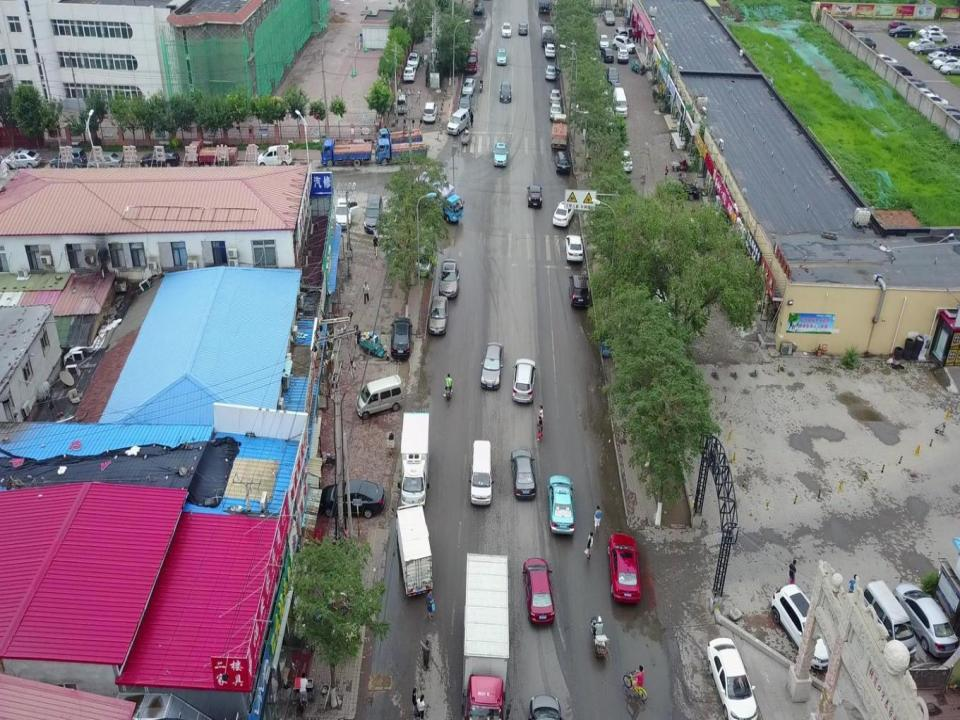car: (769, 583, 841, 672), (892, 582, 960, 660), (706, 637, 760, 720), (317, 478, 386, 519), (607, 533, 642, 605), (522, 557, 554, 624), (546, 474, 576, 536), (509, 448, 537, 502), (479, 340, 504, 390), (511, 358, 537, 404), (390, 316, 414, 360), (527, 693, 563, 720), (437, 258, 460, 299), (256, 144, 292, 168), (428, 295, 449, 336), (364, 193, 384, 235), (0, 149, 42, 169), (334, 197, 359, 230), (568, 273, 590, 310), (662, 179, 699, 201), (86, 150, 125, 170), (139, 150, 180, 168), (552, 199, 578, 227), (564, 234, 584, 264), (612, 34, 636, 54), (885, 62, 913, 78), (492, 142, 509, 168), (554, 150, 571, 175), (932, 55, 960, 70), (900, 74, 926, 90), (912, 42, 941, 56), (526, 184, 542, 209), (908, 81, 933, 96), (907, 37, 935, 50), (616, 151, 632, 173), (832, 17, 854, 33), (889, 25, 916, 38), (923, 29, 948, 43), (923, 95, 949, 108), (422, 101, 438, 122), (915, 88, 939, 102), (888, 20, 912, 33), (927, 51, 951, 64), (499, 81, 513, 103), (939, 61, 960, 75), (918, 25, 944, 36), (458, 93, 472, 113), (605, 66, 619, 86), (545, 64, 561, 81), (548, 102, 562, 121), (874, 54, 898, 65), (462, 78, 476, 96), (548, 88, 562, 105), (939, 105, 960, 116), (600, 47, 614, 63), (602, 10, 616, 26), (403, 65, 416, 82), (496, 48, 508, 66), (617, 46, 629, 64), (941, 42, 960, 53), (406, 52, 419, 68), (500, 22, 512, 38), (544, 42, 556, 58), (615, 26, 626, 40), (946, 112, 960, 123), (599, 34, 609, 49), (517, 22, 528, 34), (474, 3, 484, 15)
truck: (460, 551, 510, 720), (390, 502, 434, 598), (397, 412, 430, 507), (413, 170, 465, 223), (374, 138, 429, 166), (187, 139, 239, 168), (320, 138, 372, 166), (376, 126, 424, 153), (550, 113, 568, 150), (463, 40, 478, 74), (539, 22, 555, 47)
van: (858, 580, 917, 662), (354, 374, 404, 420), (468, 439, 494, 507), (48, 146, 88, 171), (446, 109, 470, 136), (612, 86, 629, 118), (393, 91, 408, 115), (852, 35, 876, 49)
